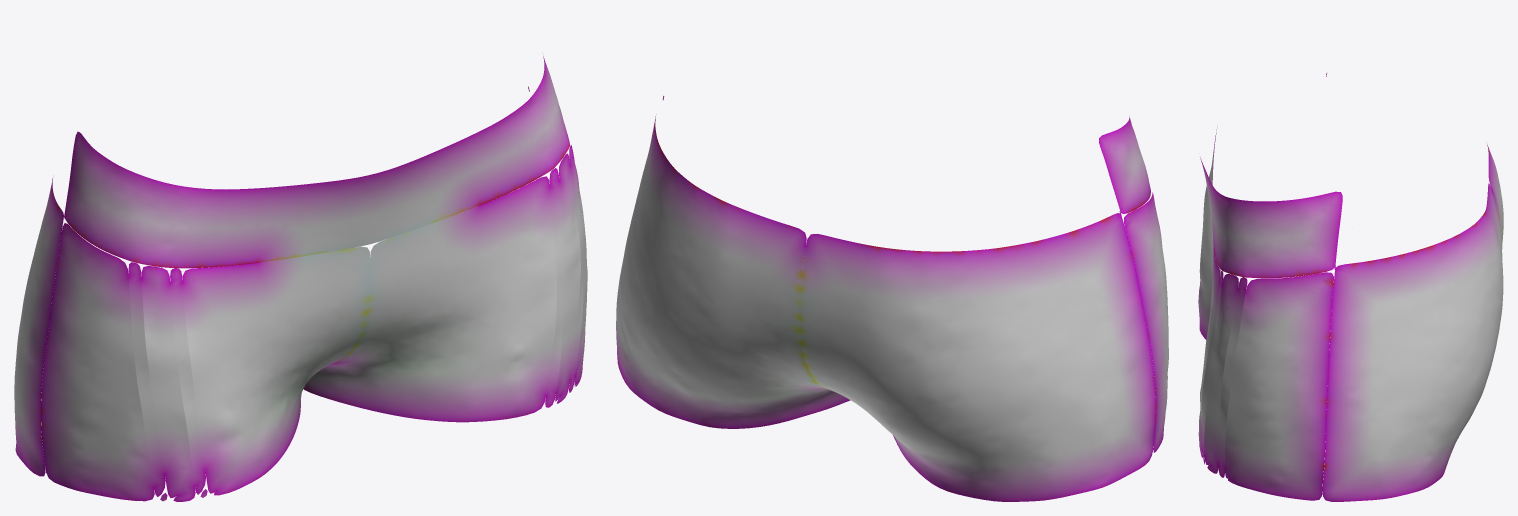
The model's file is bikeshorts.glb.
The picture shows the model from 3 angles, left to right: view 1: azimuth 30°, elevation 25°; view 2: azimuth 150°, elevation 25°; view 3: azimuth 270°, elevation 25°; orthographic projection. The views are drawn at different scales.
Parts seen in each view (by area): view 1: front, back; view 2: back, front; view 3: back, front.
Part boxes in pixels (box(x1,y1,x2,y2)): front: box(41, 56, 587, 501); back: box(14, 86, 529, 476); back: box(616, 114, 1155, 501); front: box(662, 96, 1168, 452); back: box(1322, 73, 1503, 501); front: box(1198, 73, 1342, 500).
Bounding box in the file's own units: 0.4734 × 0.2997 × 0.2683.
